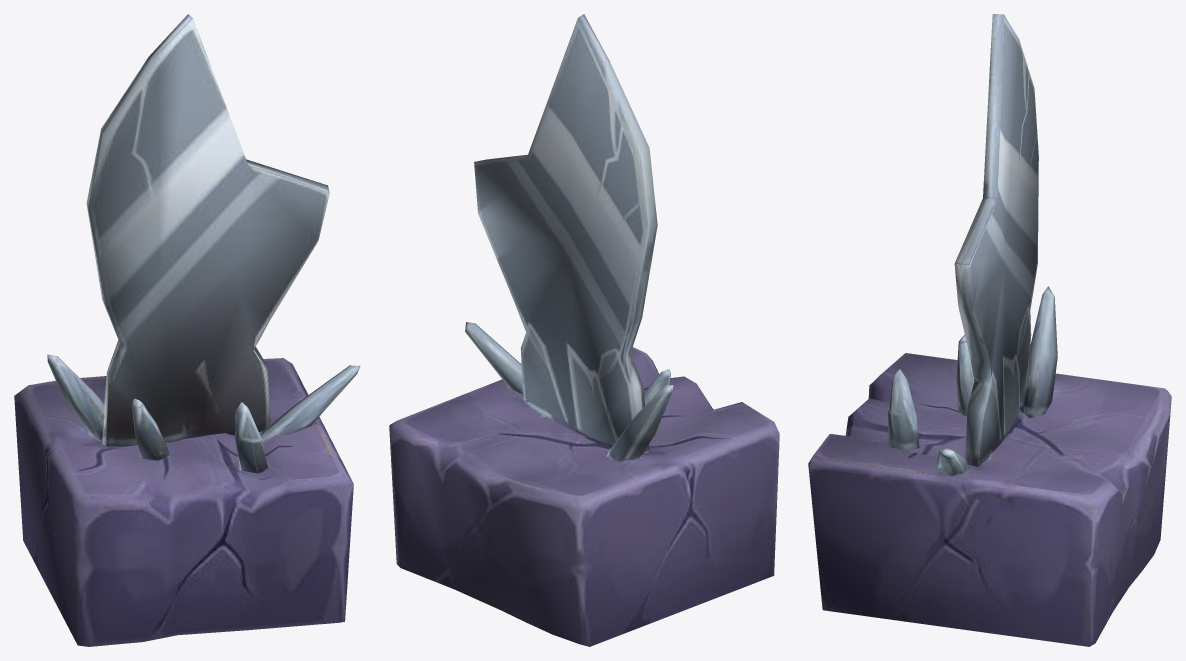
File: cp_caco_espelho.glb
3 renders of one model, left to right at view 1: azimuth 30°, elevation 25°; view 2: azimuth 150°, elevation 25°; view 3: azimuth 270°, elevation 25°, orthographic. The views are drawn at different scales.
Parts seen in each view (by area): view 1: Mesh_0.007; view 2: Mesh_0.007; view 3: Mesh_0.007.
Boxes of the visible parts, x1,y1,x2,y2 form: Mesh_0.007: (14, 14, 360, 646); Mesh_0.007: (389, 14, 779, 646); Mesh_0.007: (808, 14, 1171, 646).
Size of the model in its own units: 0.2169 by 0.3799 by 0.2207.
Materials: 1 (1 with a texture image).
